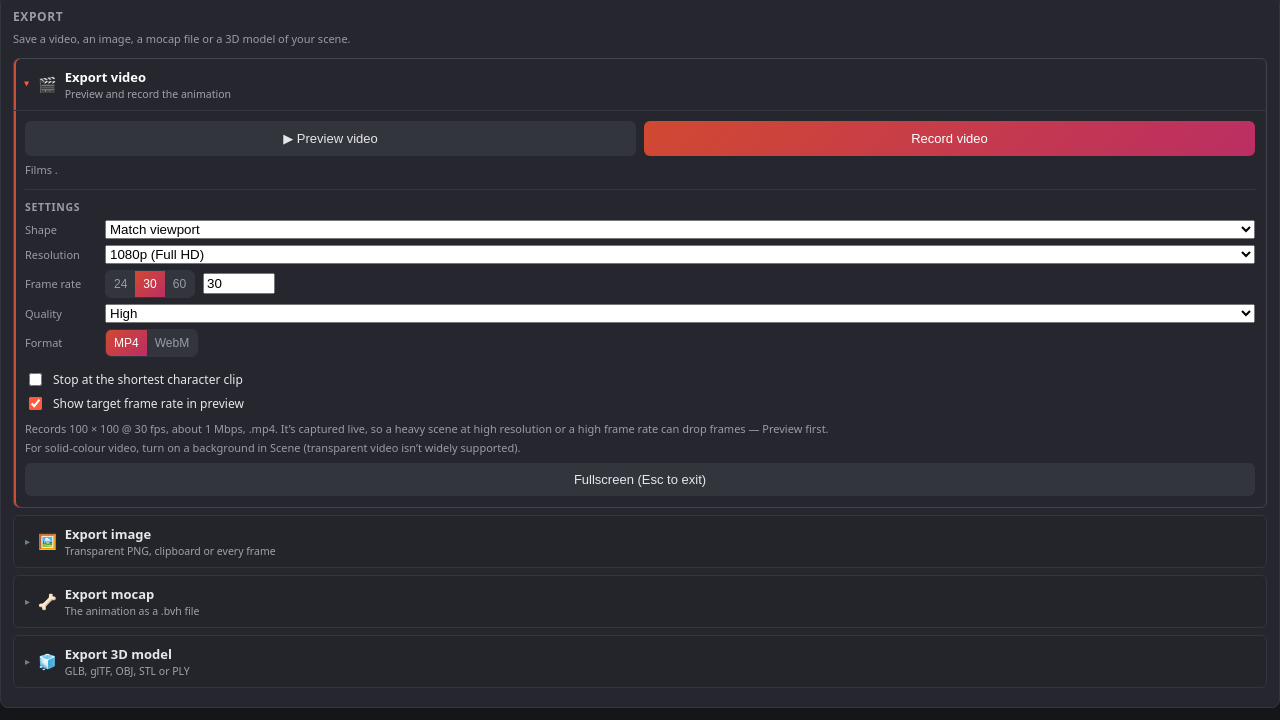
Export panel — copy images › copies a PNG without downloading it
Click the button "▸ 🖼️ Export image Transparent PNG, clipboard or every frame" at (108, 534), box 14,516 -> 1266,566
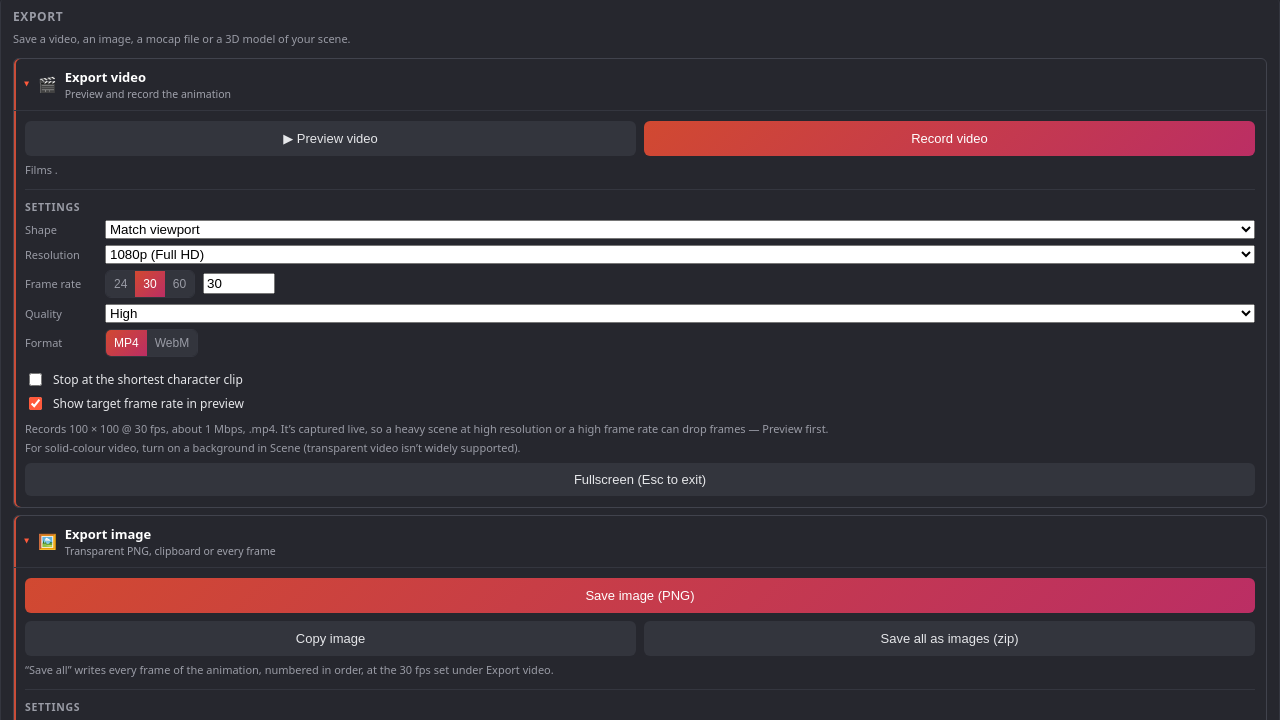
Click the button "Copy image" at (330, 638), box 25,620 -> 636,656
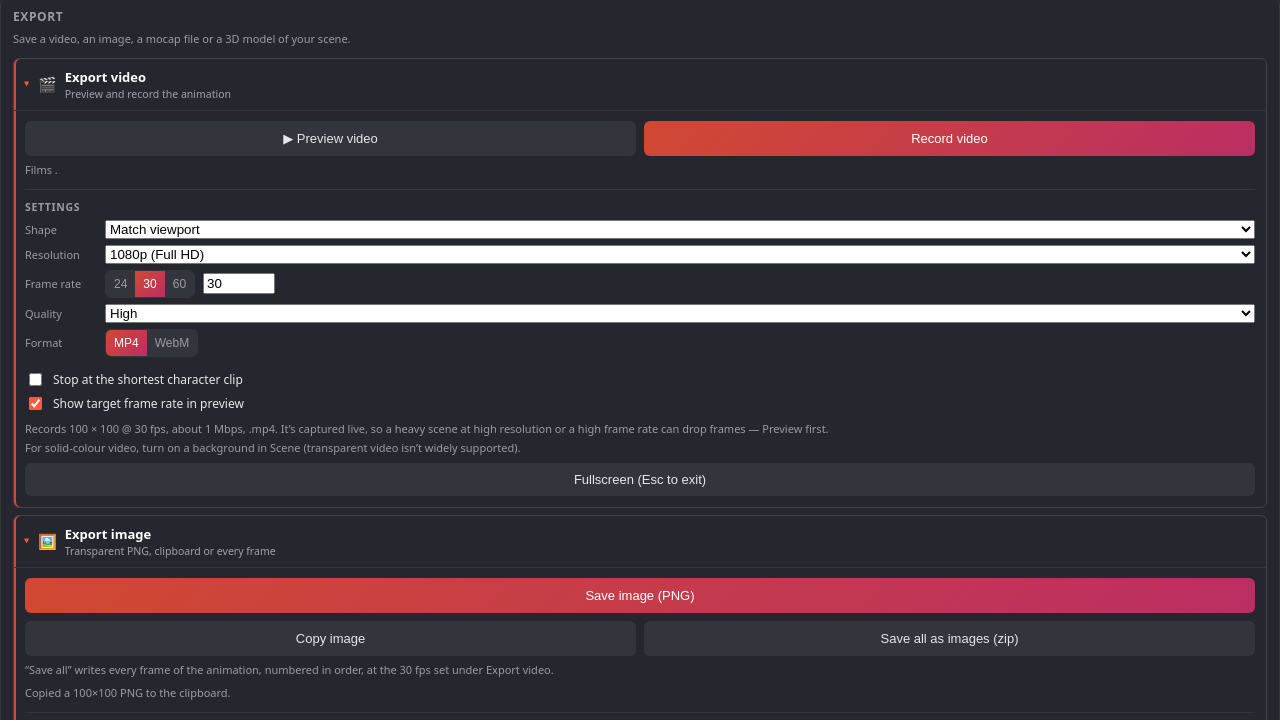
expect the text "Copied a 100×100 PNG to the clipboard." is shown: met, box 25,684 -> 230,700
